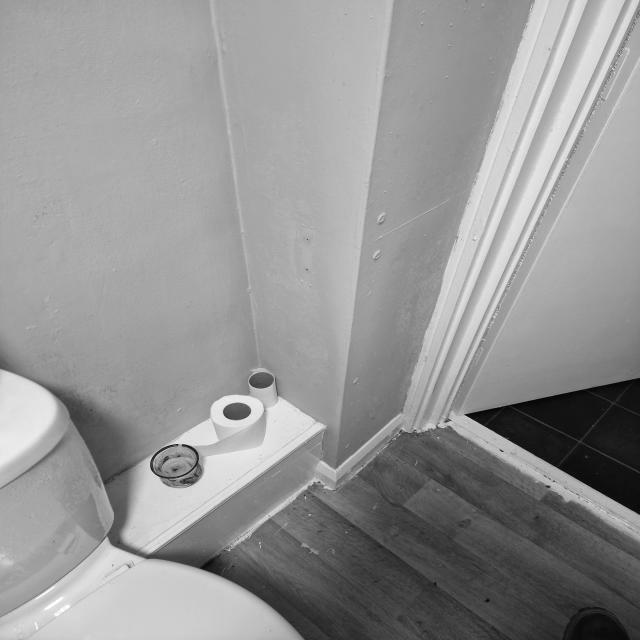stain marks: (216, 149, 343, 404), (10, 160, 101, 386), (369, 207, 454, 433), (103, 284, 211, 446)
